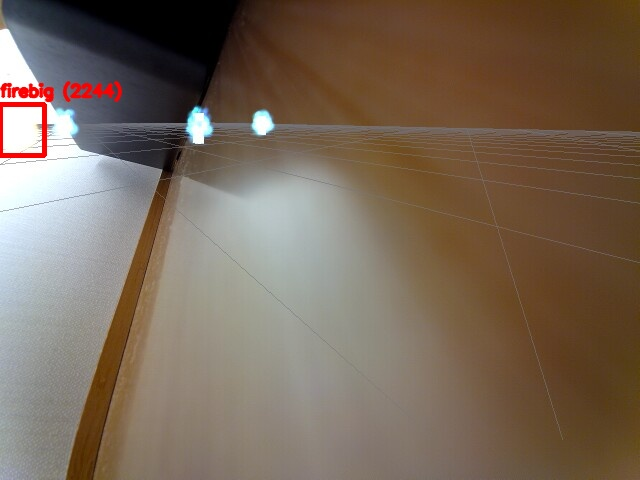firebig: (0, 104, 44, 155)
